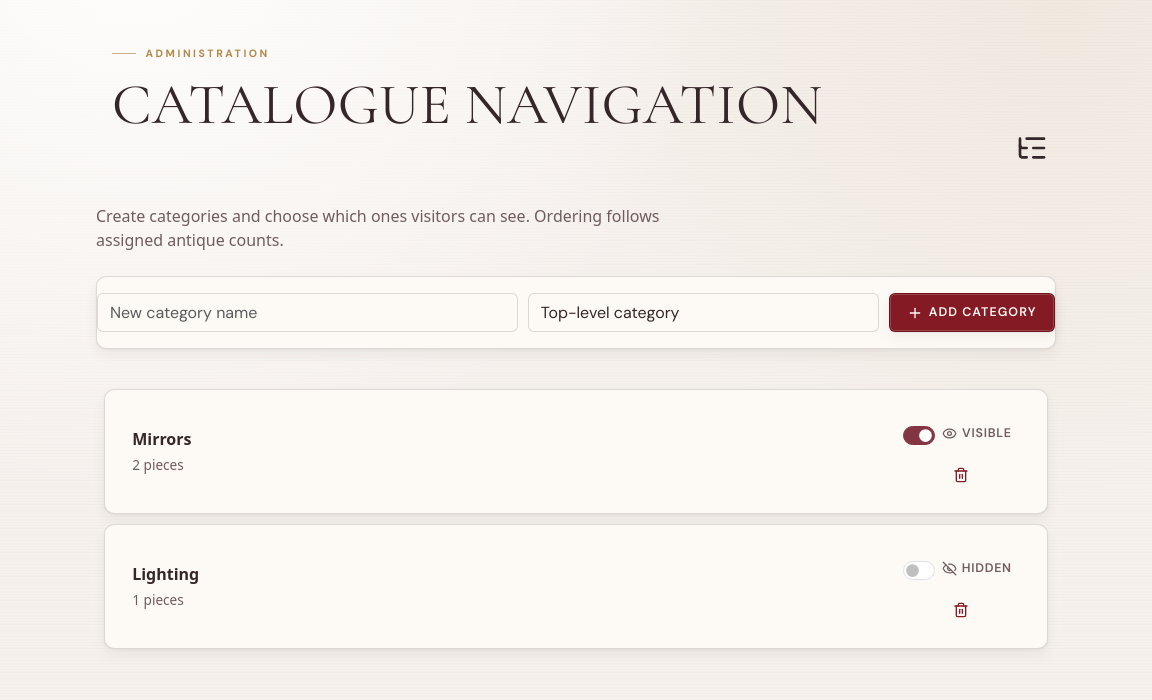
Category administration page › creates a category from the curator form
Expected: the text "Mirrors" is shown, [132,427,192,451]
Step 1. Type "Ceramics" into the field with placeholder "New category name" → (308, 313), box [97,293,518,332]
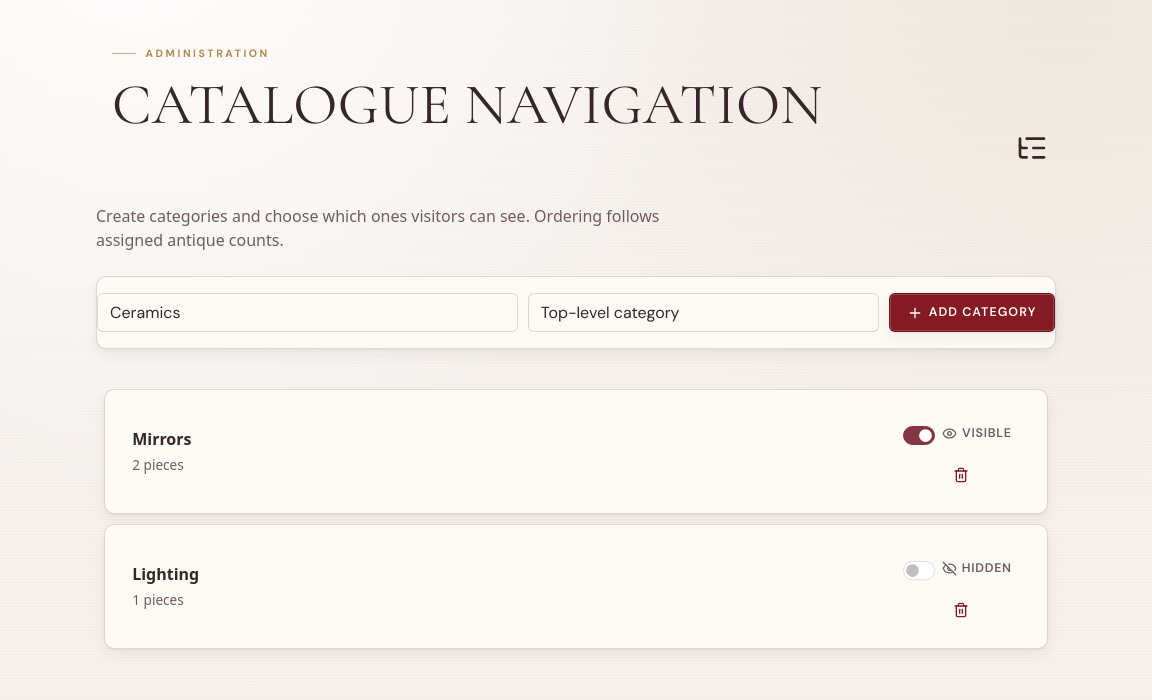
Step 2. Click the button "Add category" → (972, 313), box [888,293,1055,332]
(page scrolled)
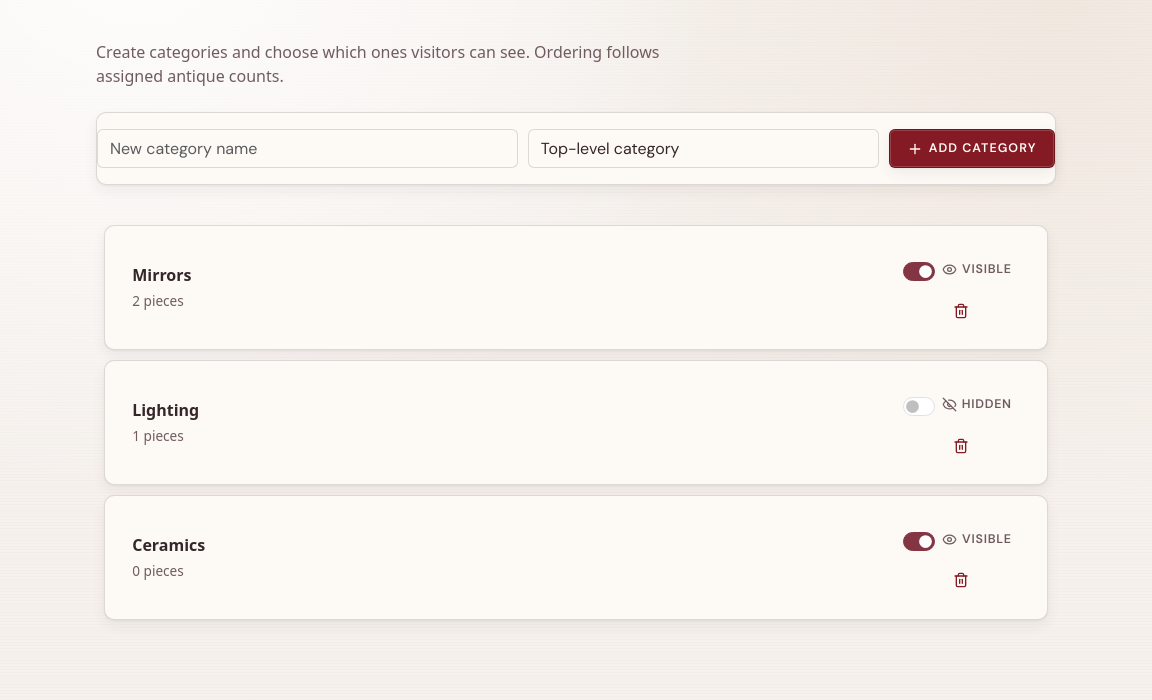
Now the text "Ceramics" is shown, box [132,533,205,557]
